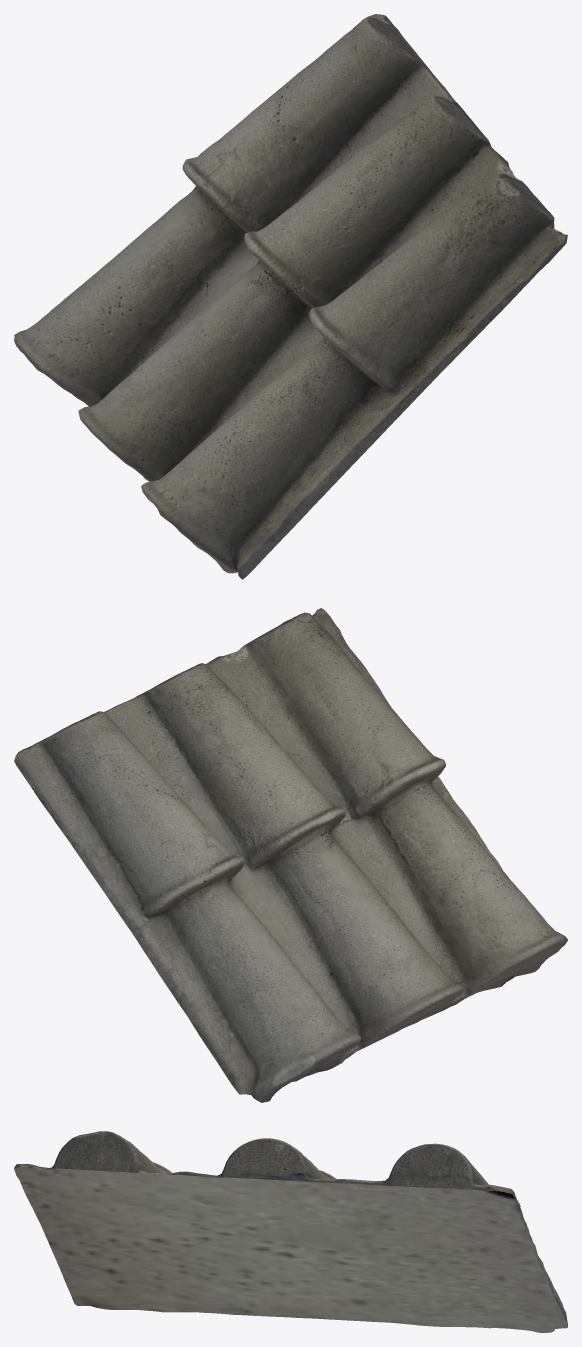
Rendered from Retopo_3DModel_mesh.127.glb.
The picture shows the model from 3 angles, top to bottom: view 1: azimuth 30°, elevation 25°; view 2: azimuth 150°, elevation 25°; view 3: azimuth 270°, elevation 25°; orthographic projection. The views are drawn at different scales.
Parts seen in each view (by area): view 1: Retopo_3DModel_mesh.127; view 2: Retopo_3DModel_mesh.127; view 3: Retopo_3DModel_mesh.127.
Boxes of the visible parts, x1,y1,x2,y2 form: Retopo_3DModel_mesh.127: (14,14,567,579); Retopo_3DModel_mesh.127: (14,608,567,1102); Retopo_3DModel_mesh.127: (14,1131,567,1332).
Size of the model in its own units: 3.67 by 2.81 by 4.55.
1 material, 1 textured.
